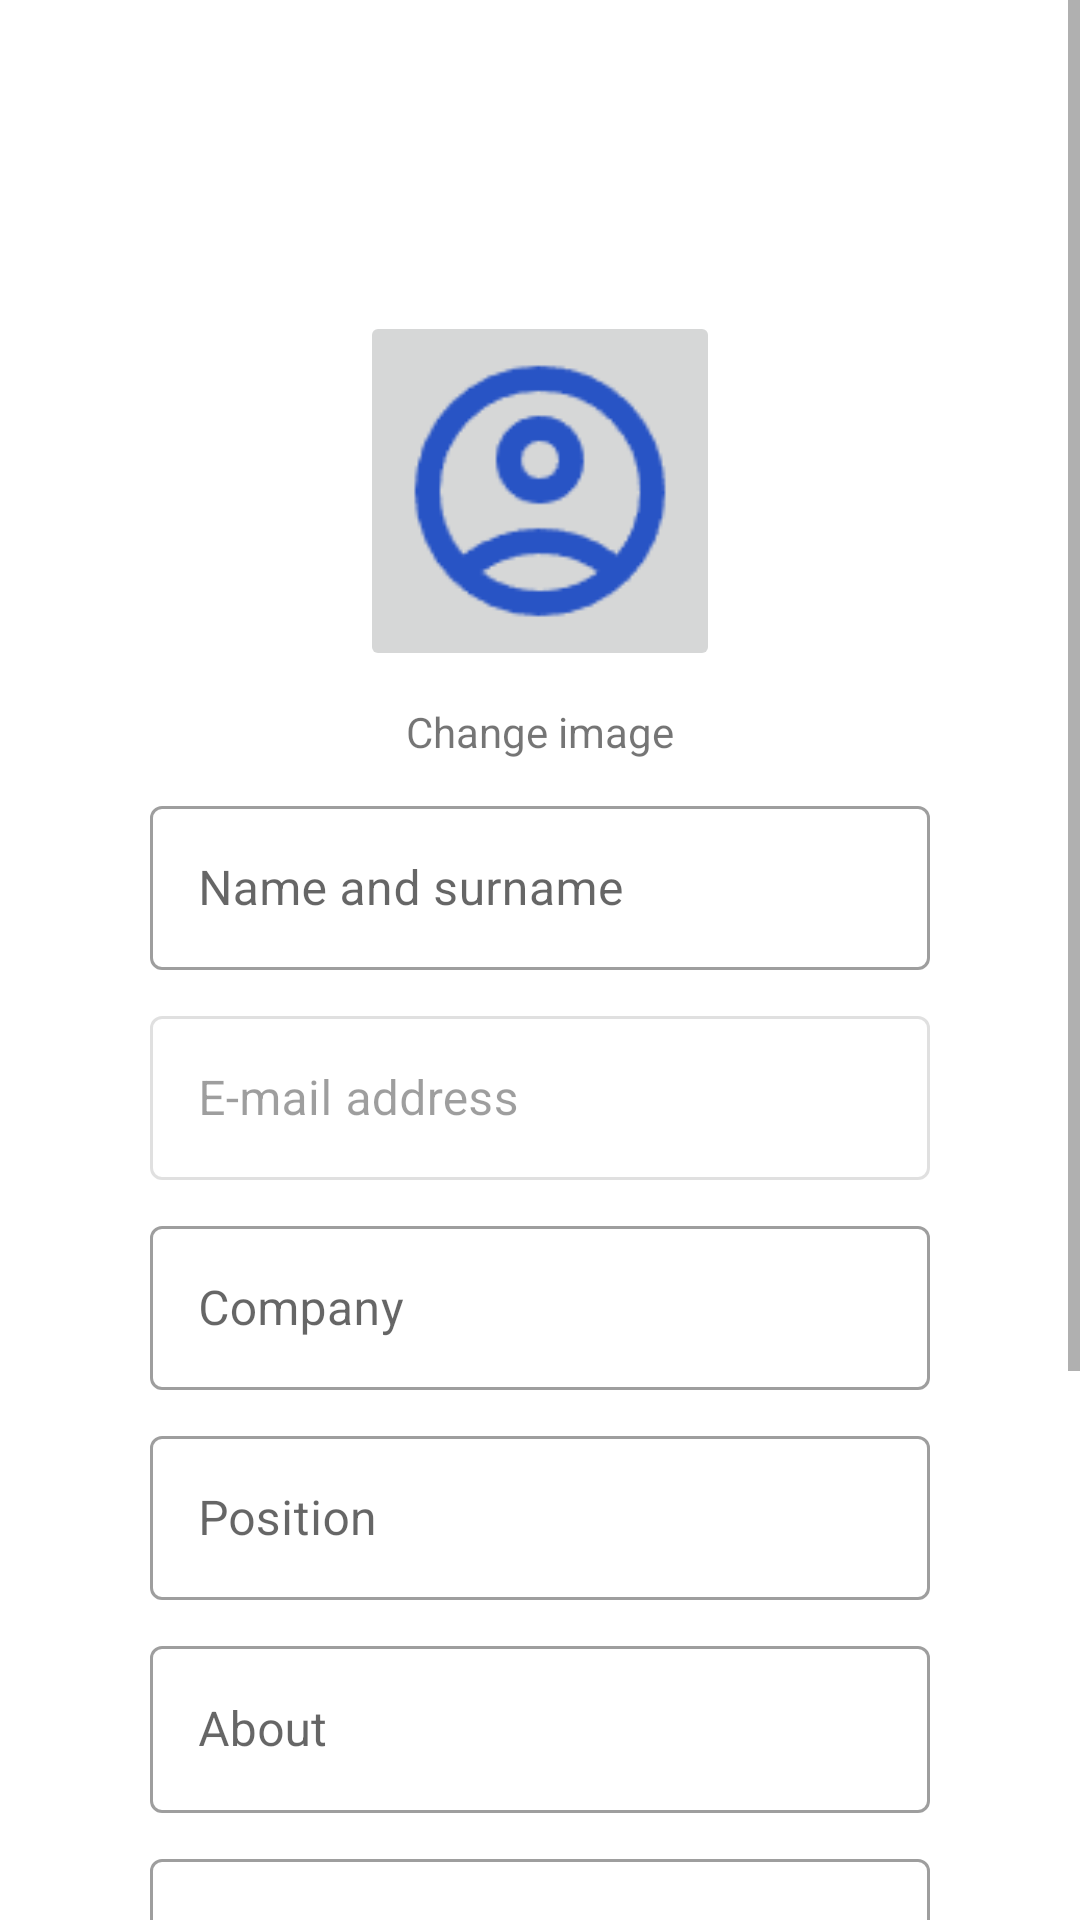

Screen size 1080x1920. Icon name, then its box in pixels as (x1, y1, x2, y2):
Username: (372, 329, 708, 653)
